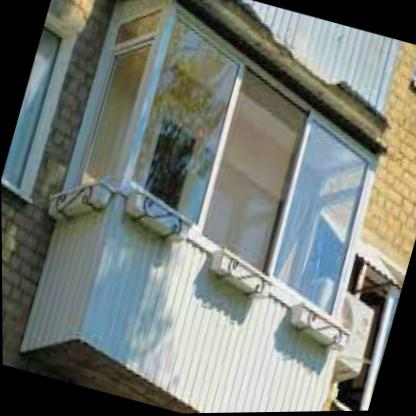Window: (121, 21, 248, 226), (260, 121, 382, 320), (78, 23, 159, 183)
